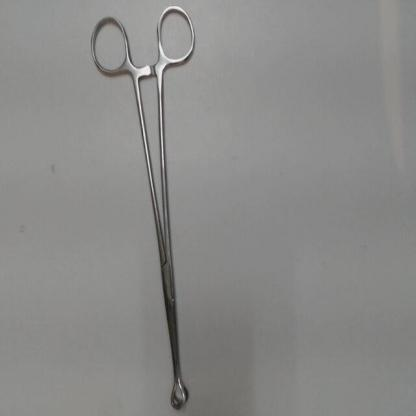8 Babcock Tissue Forceps: (81, 1, 197, 413)
